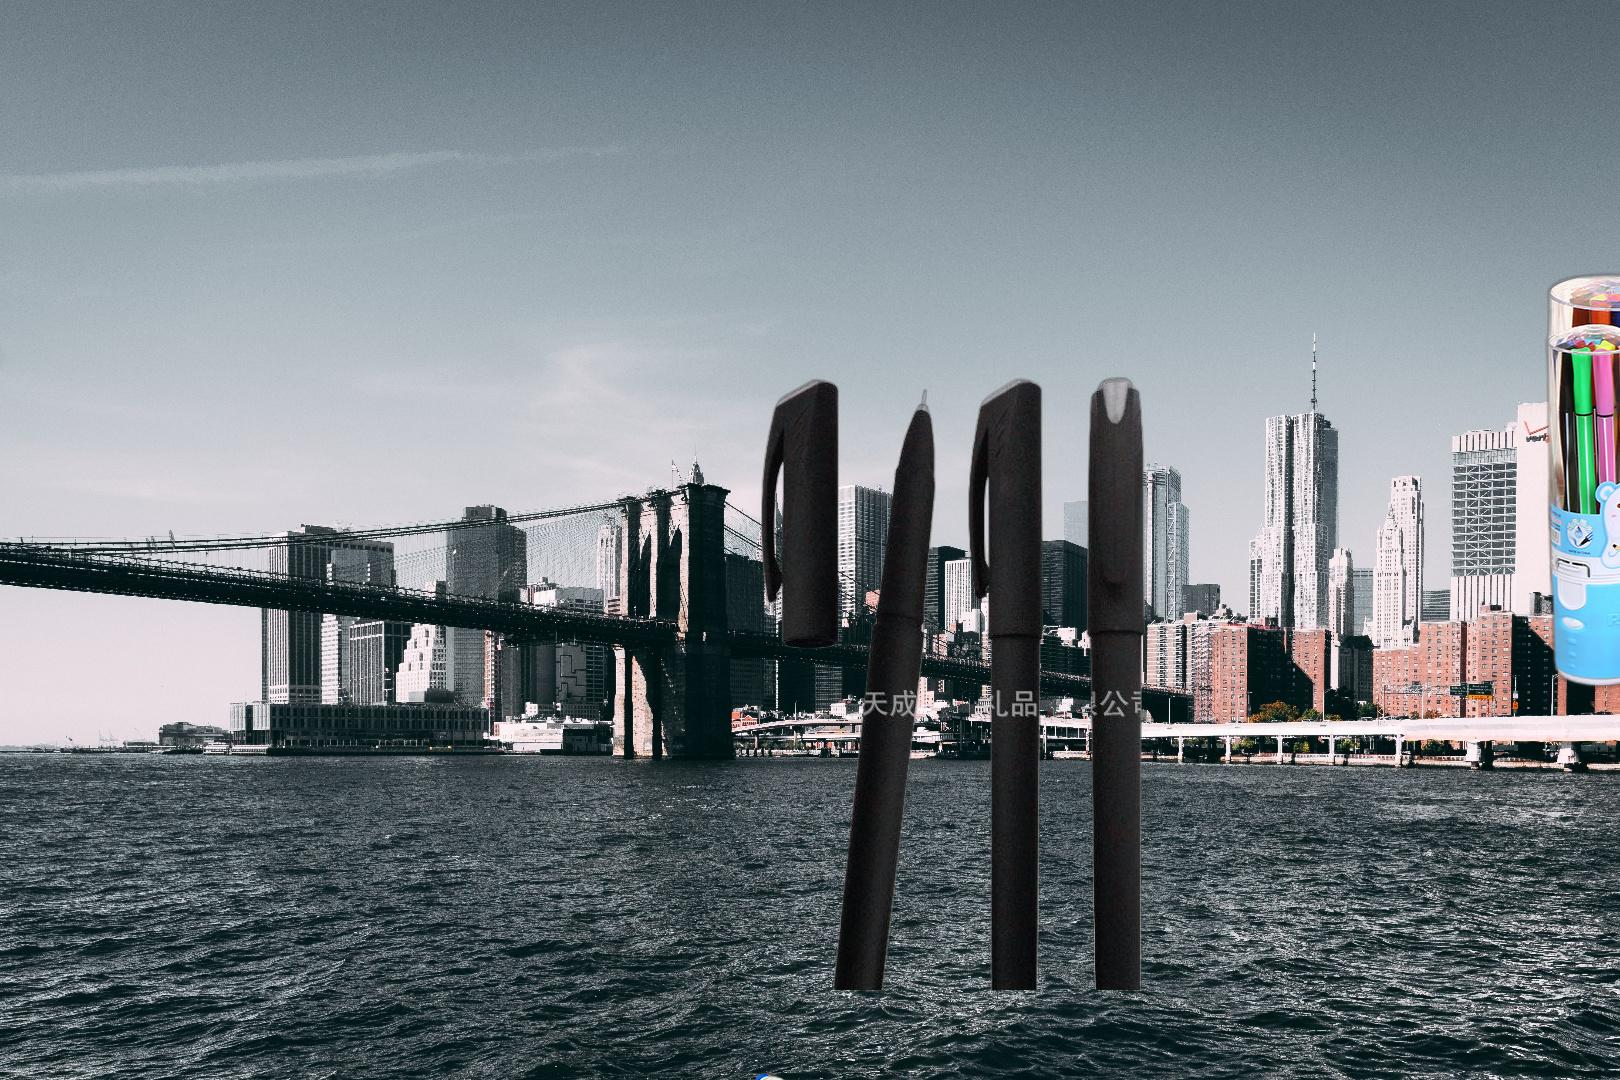penholder: (733, 372, 1195, 990), (1540, 266, 1620, 751)
plastic-bottles: (742, 1067, 843, 1080)
